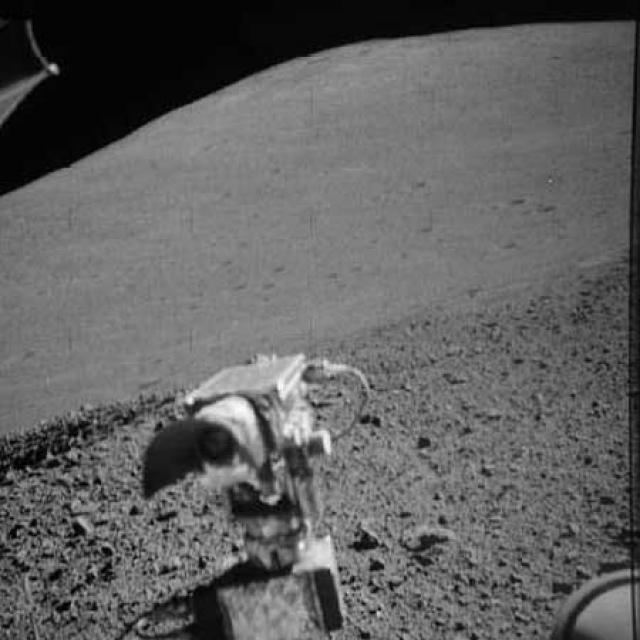artifact: (140, 346, 420, 638), (2, 24, 88, 146)
crater: (0, 394, 162, 472)
rock: (399, 512, 464, 559)
